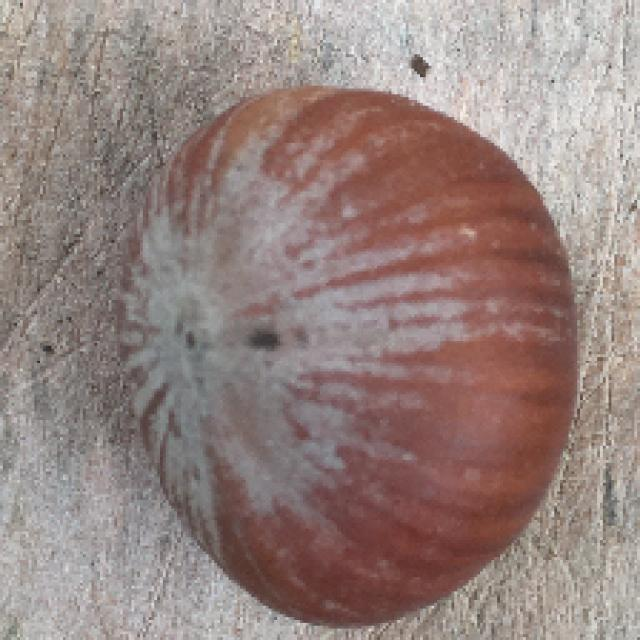damagedHazelnut: (104, 86, 582, 627)
